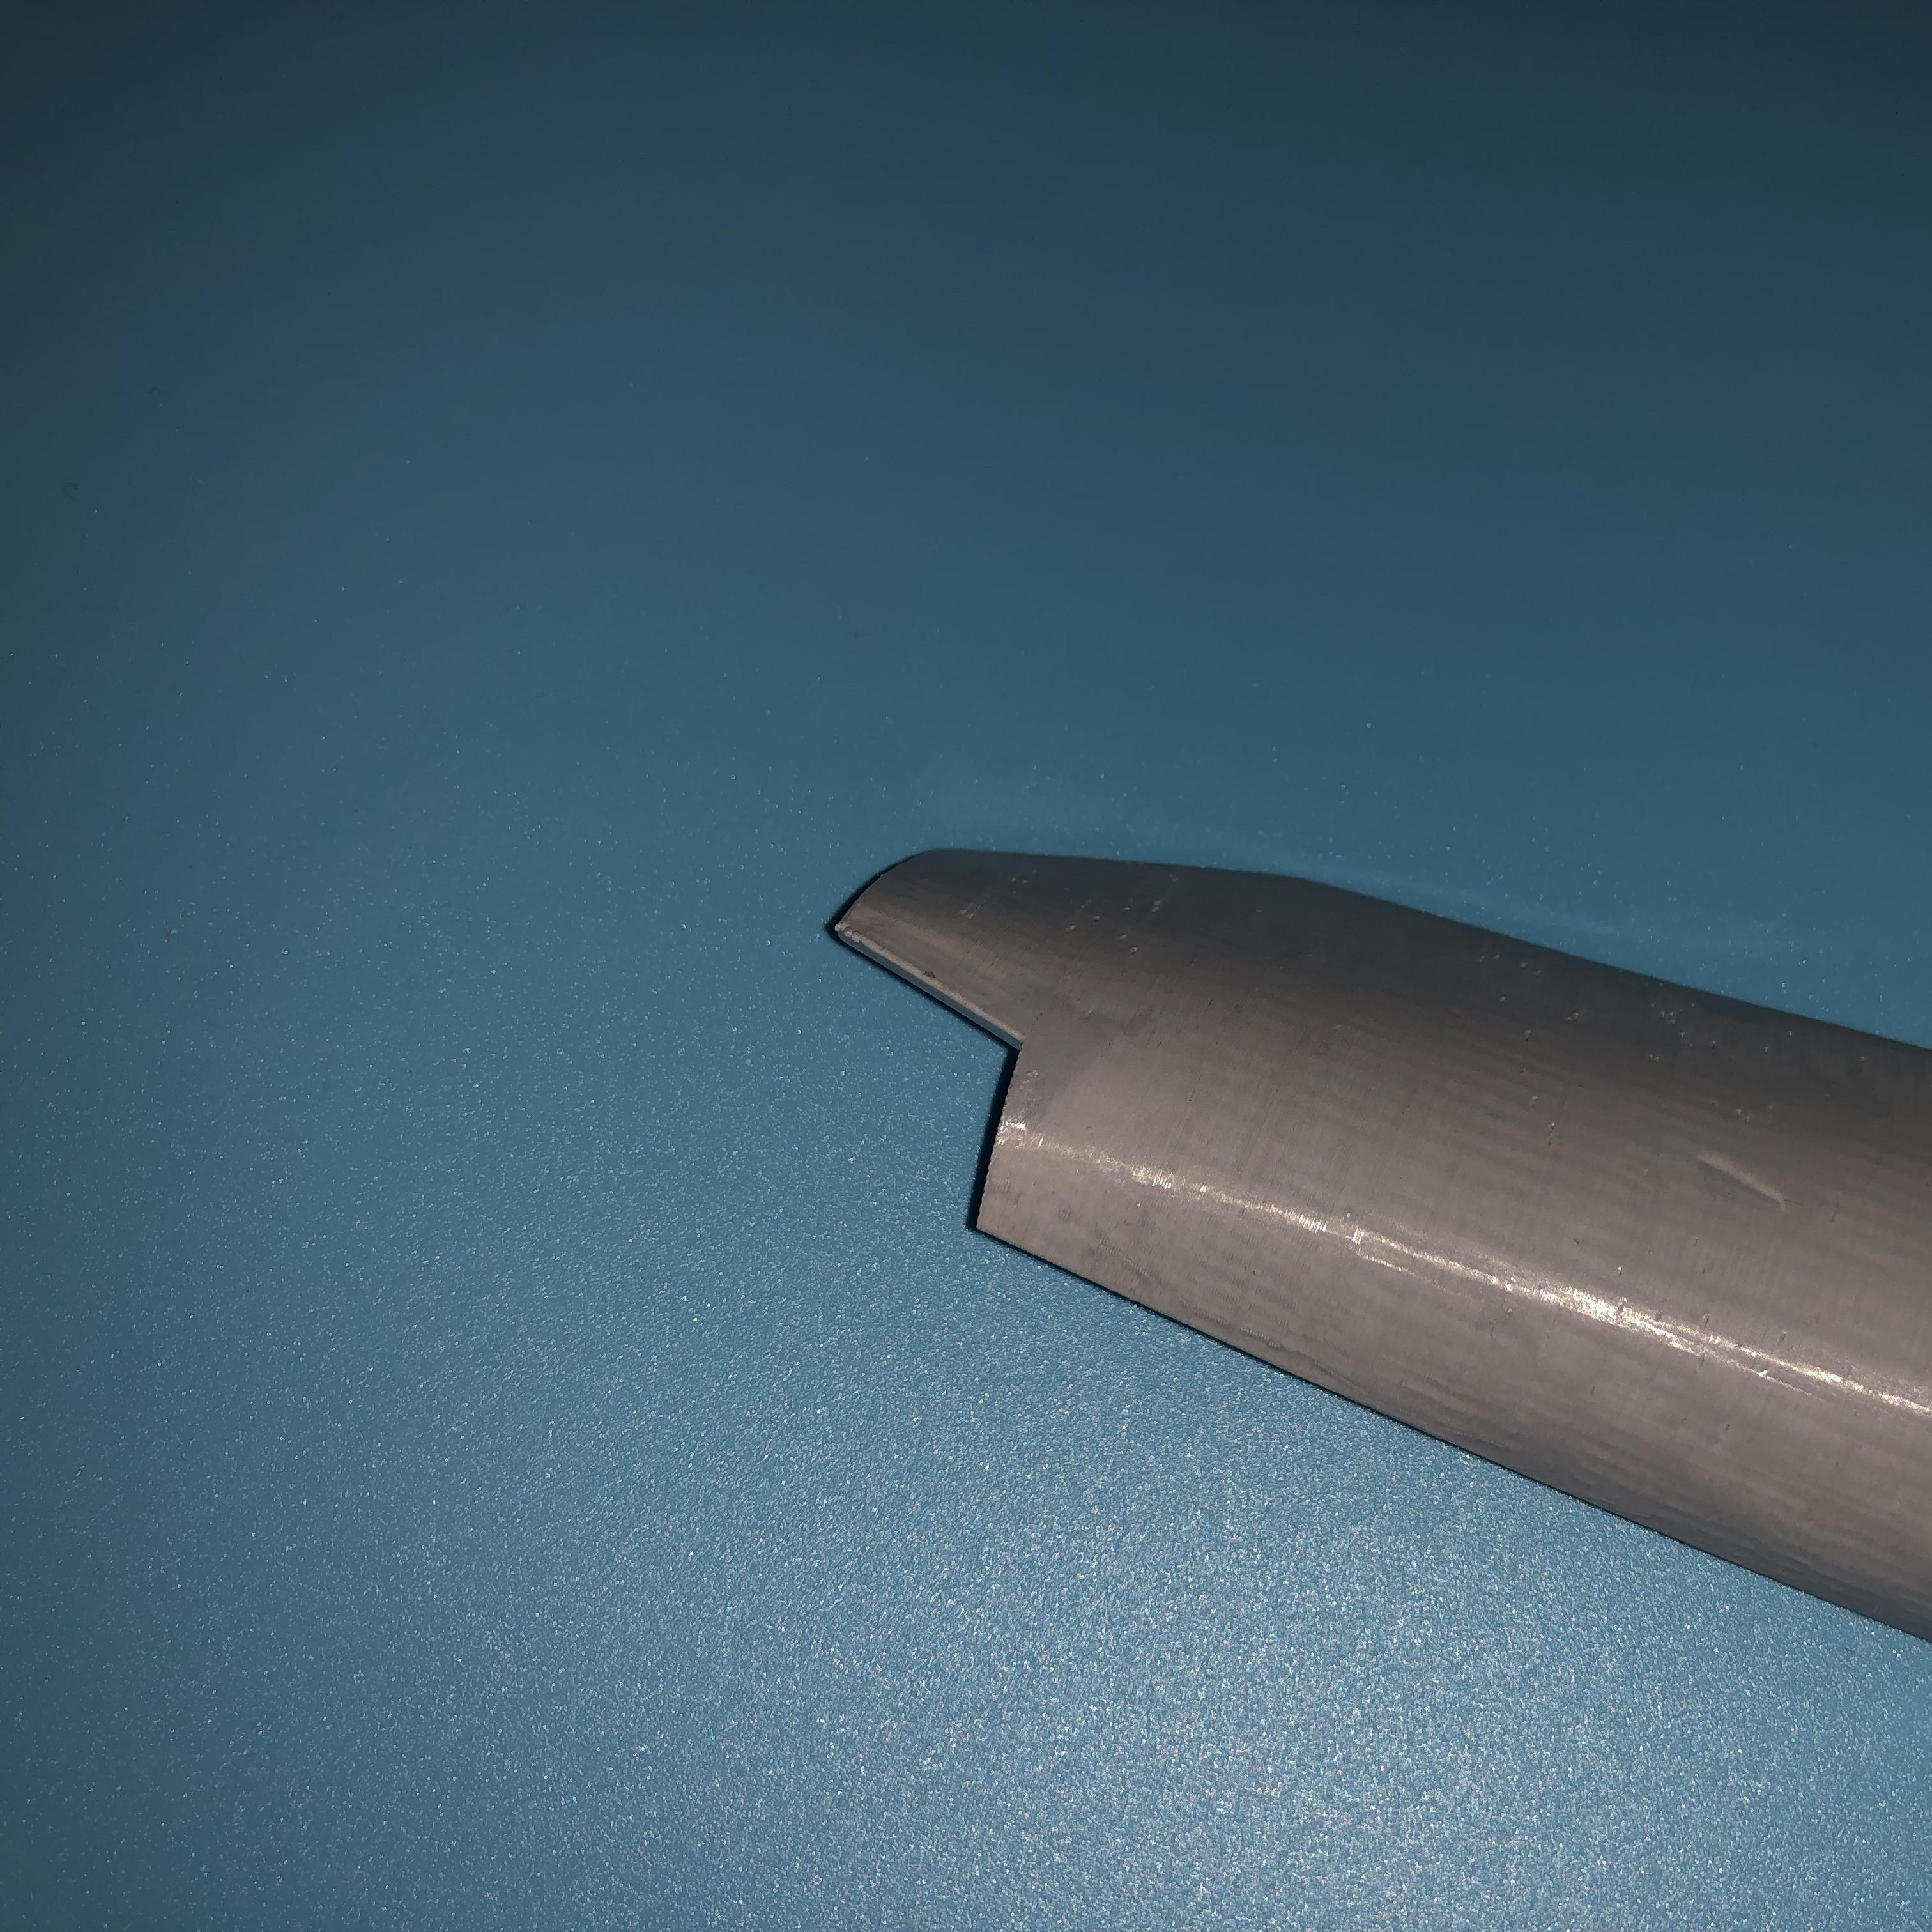fracture: (817, 920, 1037, 1244)
